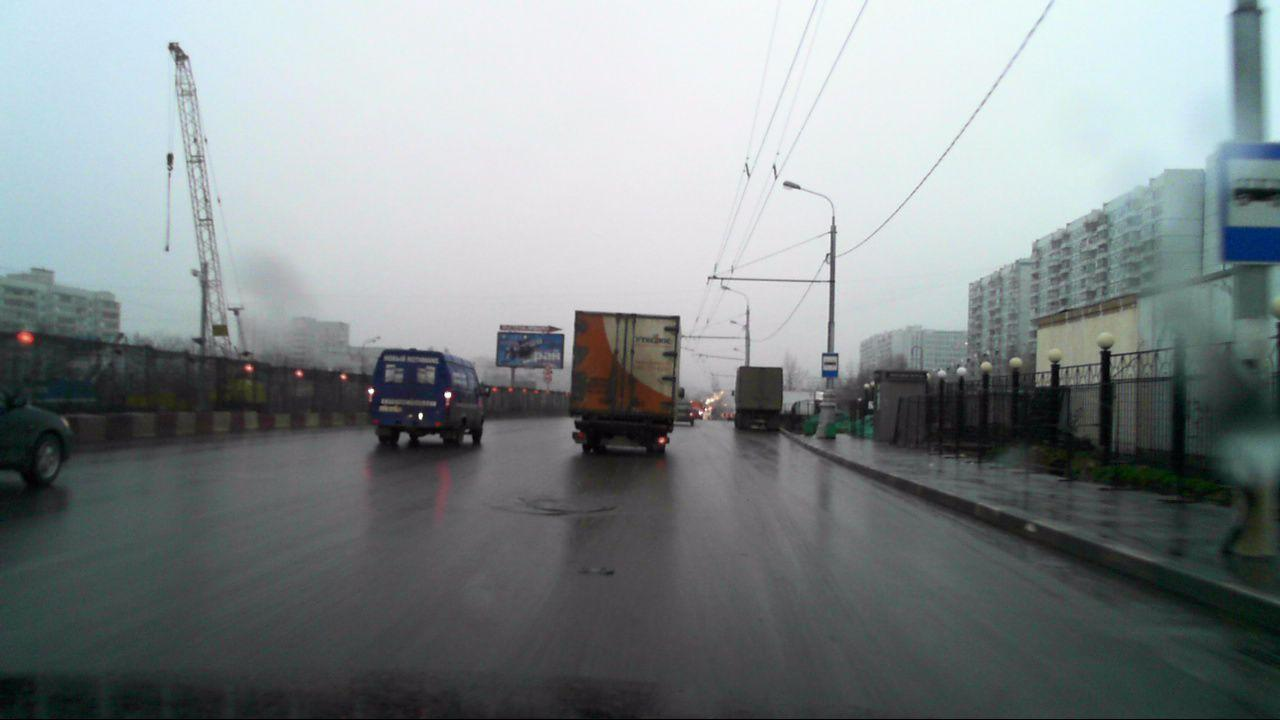5_16: (1206, 140, 1280, 264), (821, 352, 838, 377)
